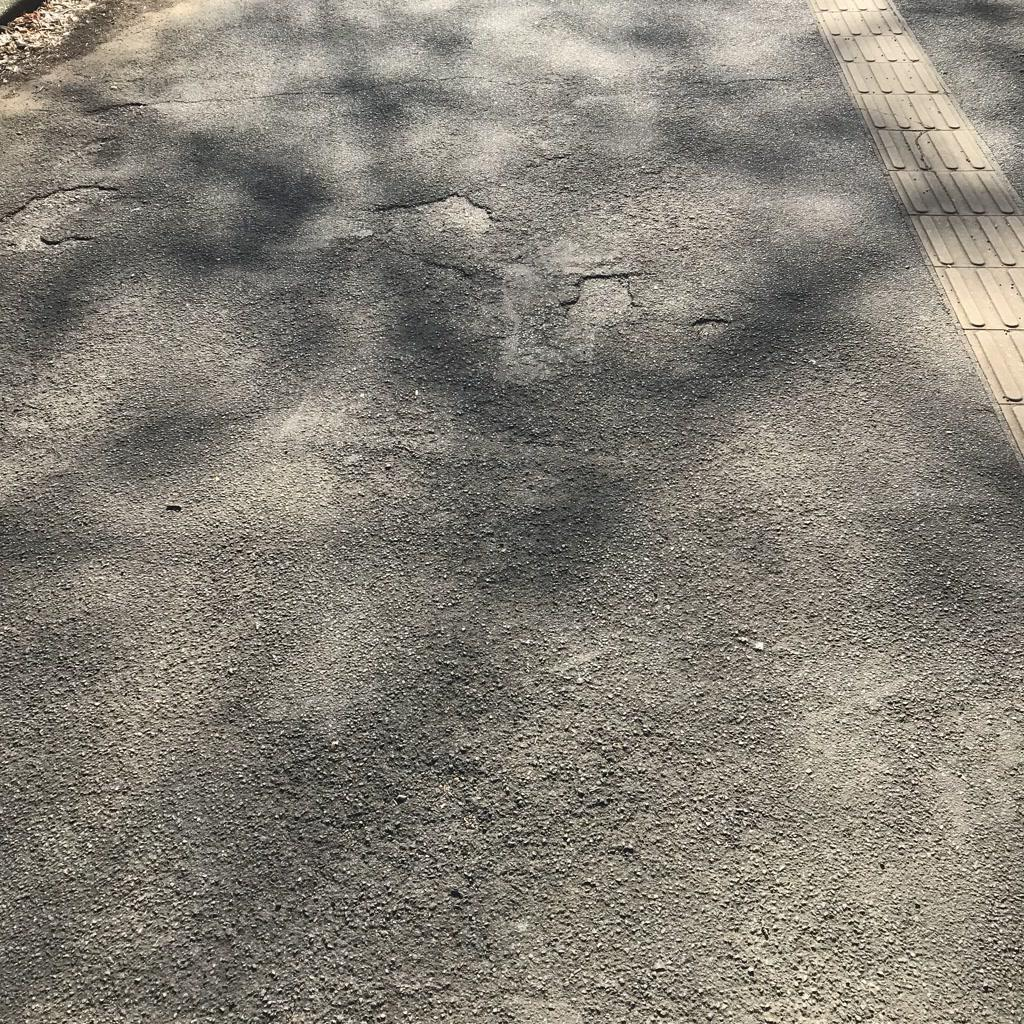pothole: (7, 172, 125, 256), (551, 262, 638, 332), (372, 199, 500, 232)
